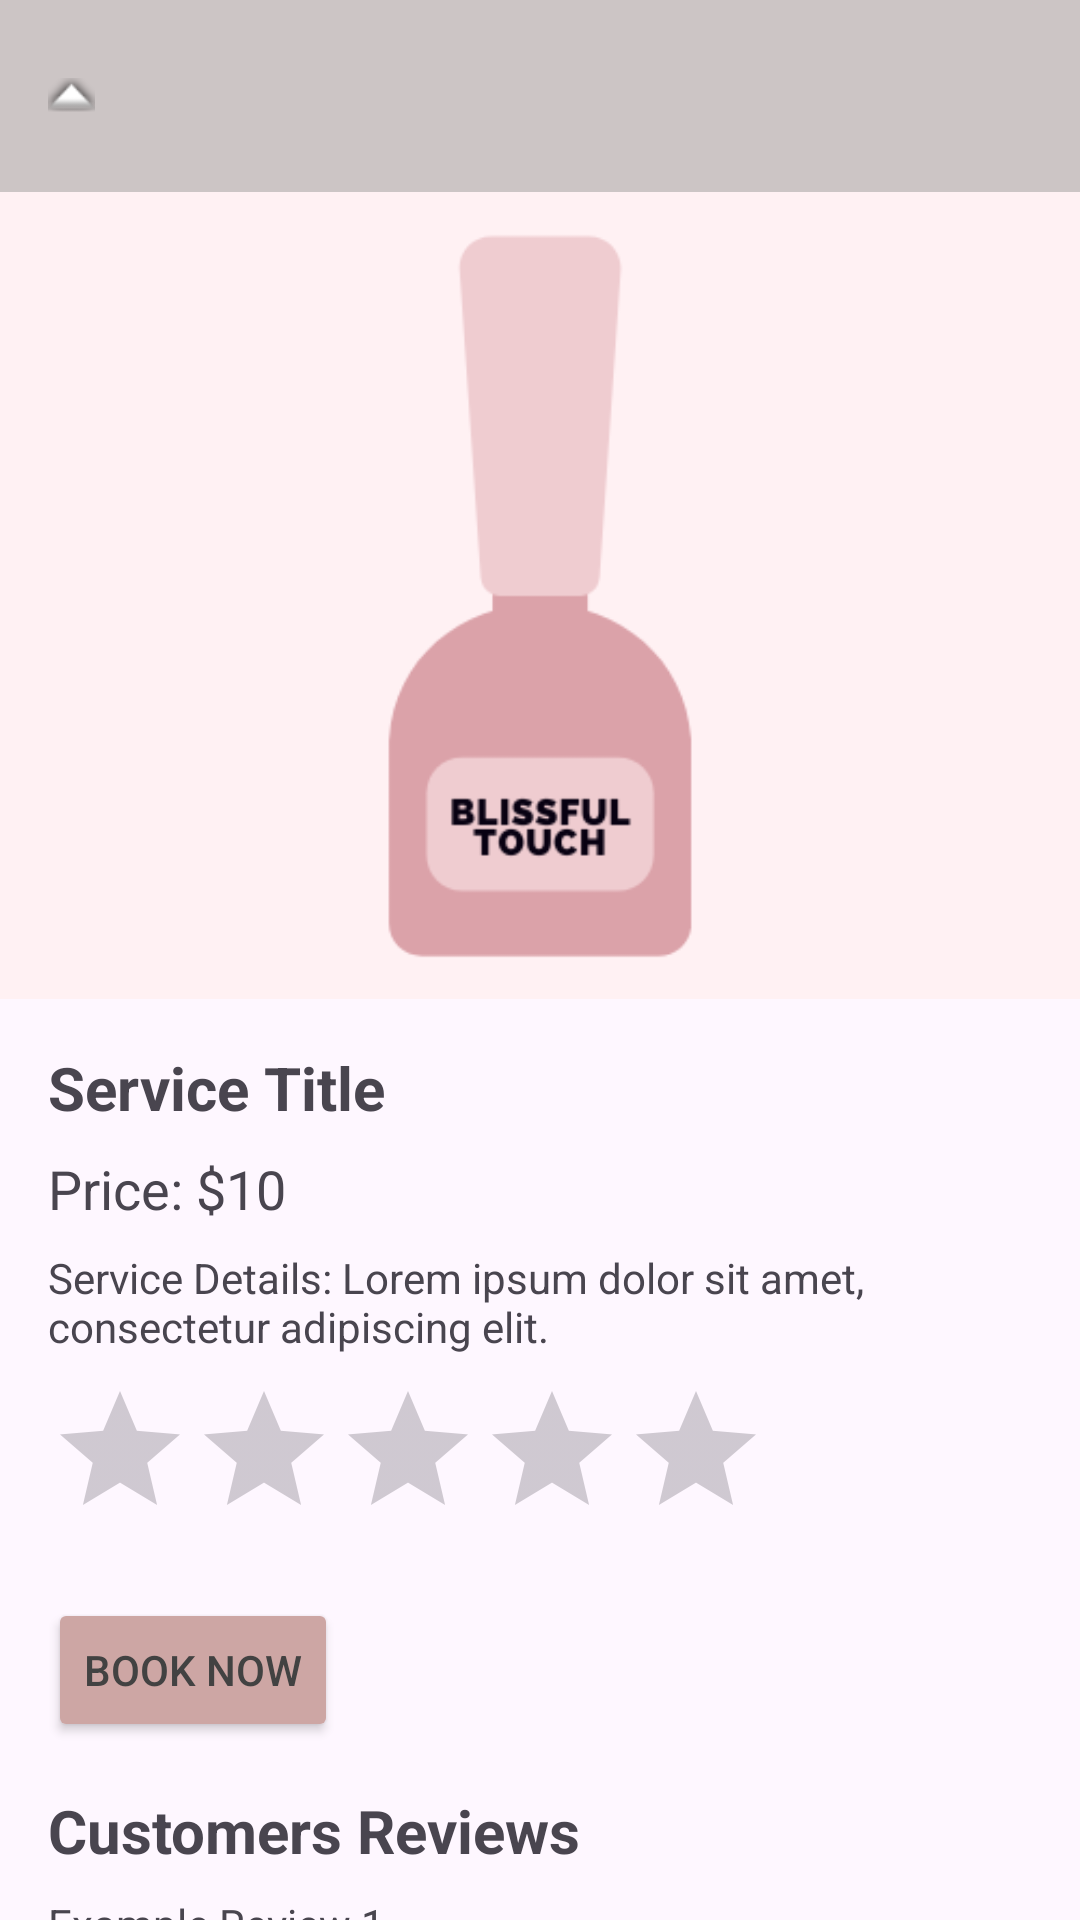

Named icons in this screenshot (1080px×1920px) and their centers, point (x, y):
arrow up float: point (71, 95)
